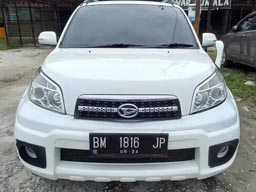plat: (89, 134, 167, 148)
